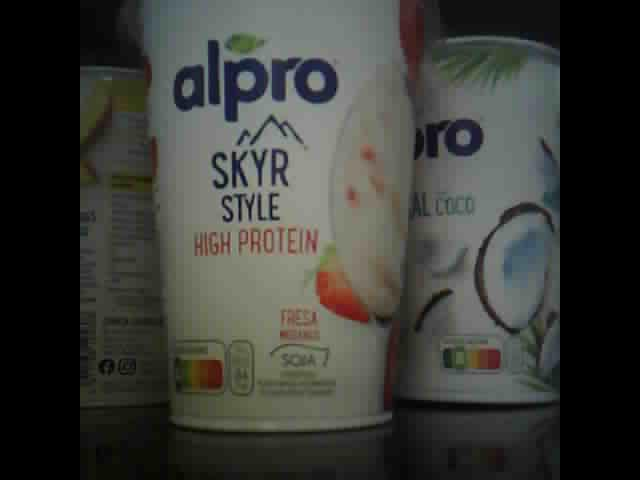alpro: (114, 1, 423, 438), (405, 34, 561, 408), (78, 60, 187, 412)
